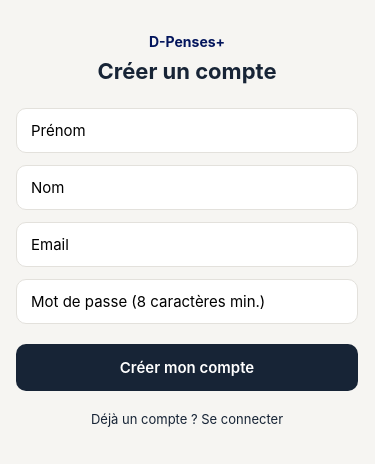
Scenario: erreur serveur réelle (500) → jamais "Erreur interne du serveur", message générique dédié
The width and height of the screenshot is (375, 464).
Step 1. Type "Test" into the field with placeholder "Prénom" → point(187, 130), box [16,108,358,153]
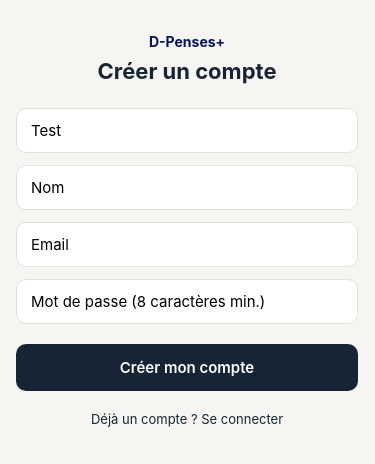
Step 2. Type "User" into the field with placeholder "Nom" → point(187, 188), box [16,165,358,210]
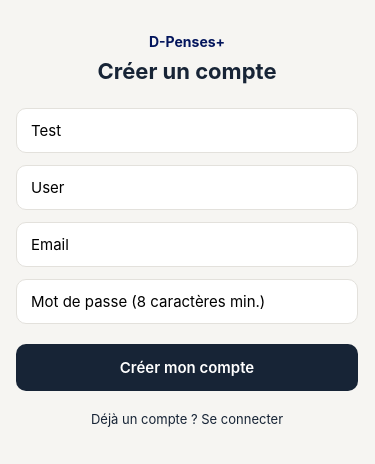
Step 3. Type "test.user@example.com" into the field with placeholder "Email" → point(187, 244), box [16,222,358,267]
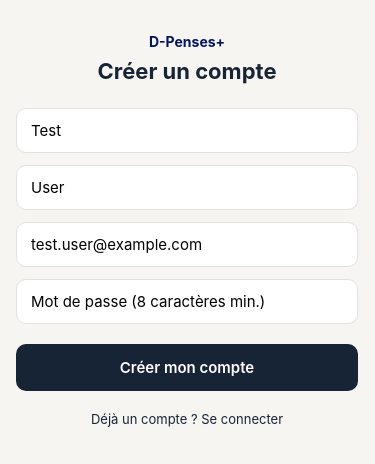
Step 4. Type "password123" into the password field with placeholder "Mot de passe (8 caractères min.)" → point(187, 302), box [16,279,358,324]
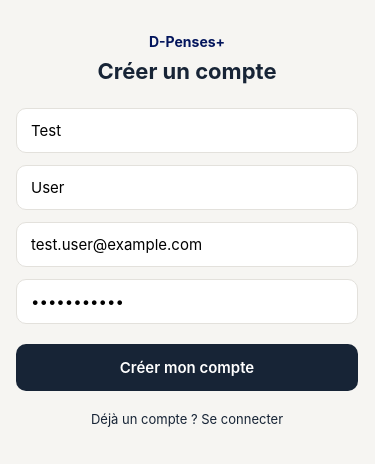
Step 5. Click the text "Créer mon compte" → point(187, 368), box [120,358,254,377]
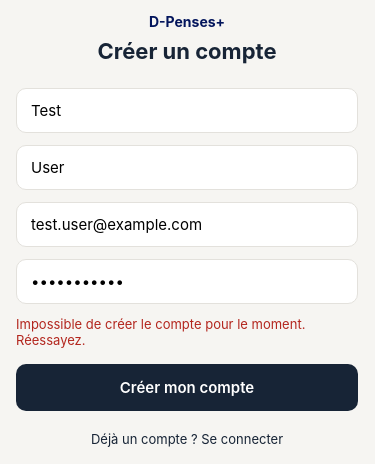
Result: the text "Impossible de créer le compte pour le moment. Réessayez." is shown at [16,316,358,348]
